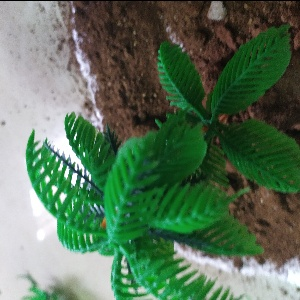plant: (30, 38, 300, 276)
